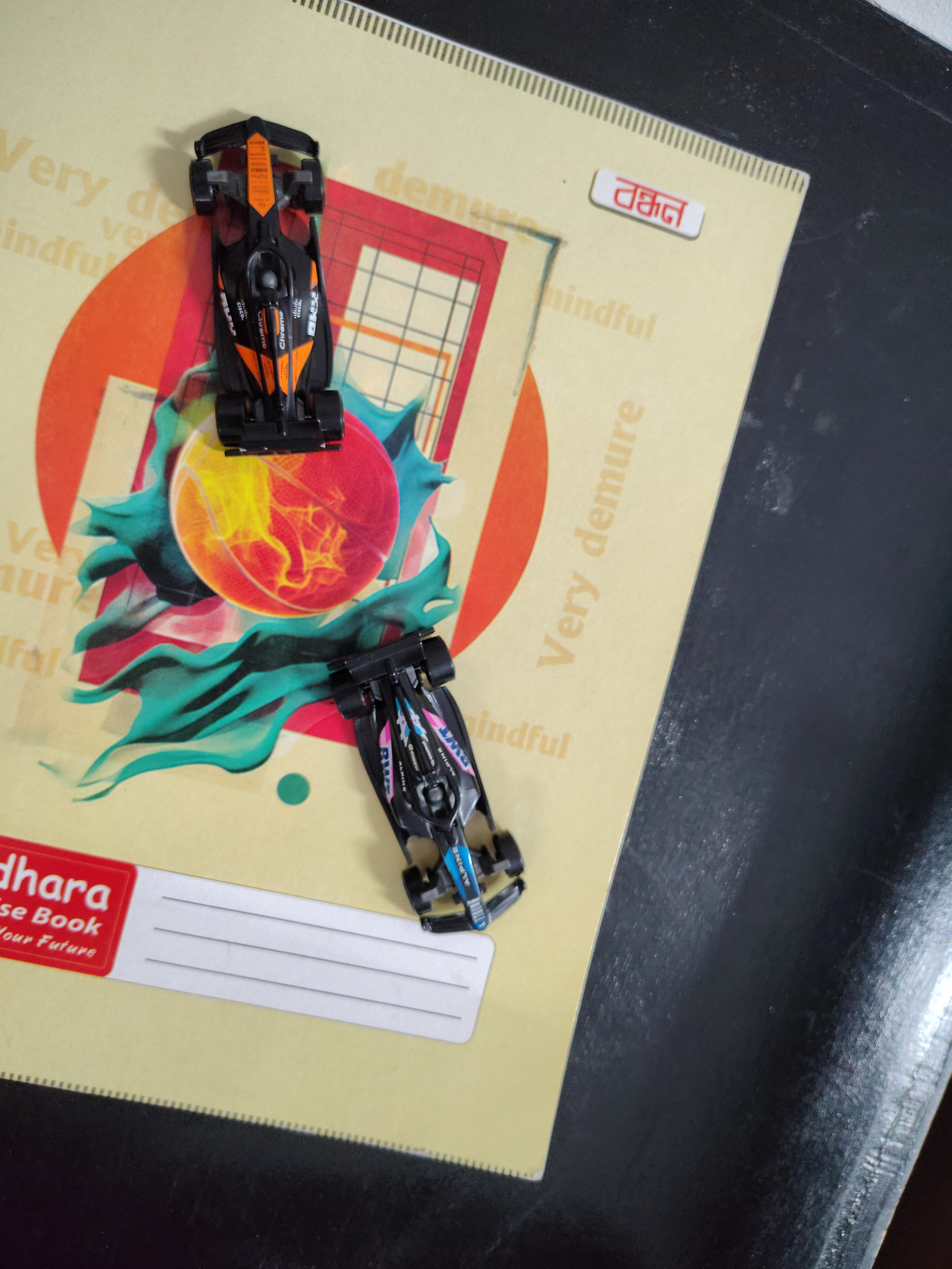Alpine A524: (228, 539, 680, 984)
McLaren MCL40: (126, 74, 435, 479)
